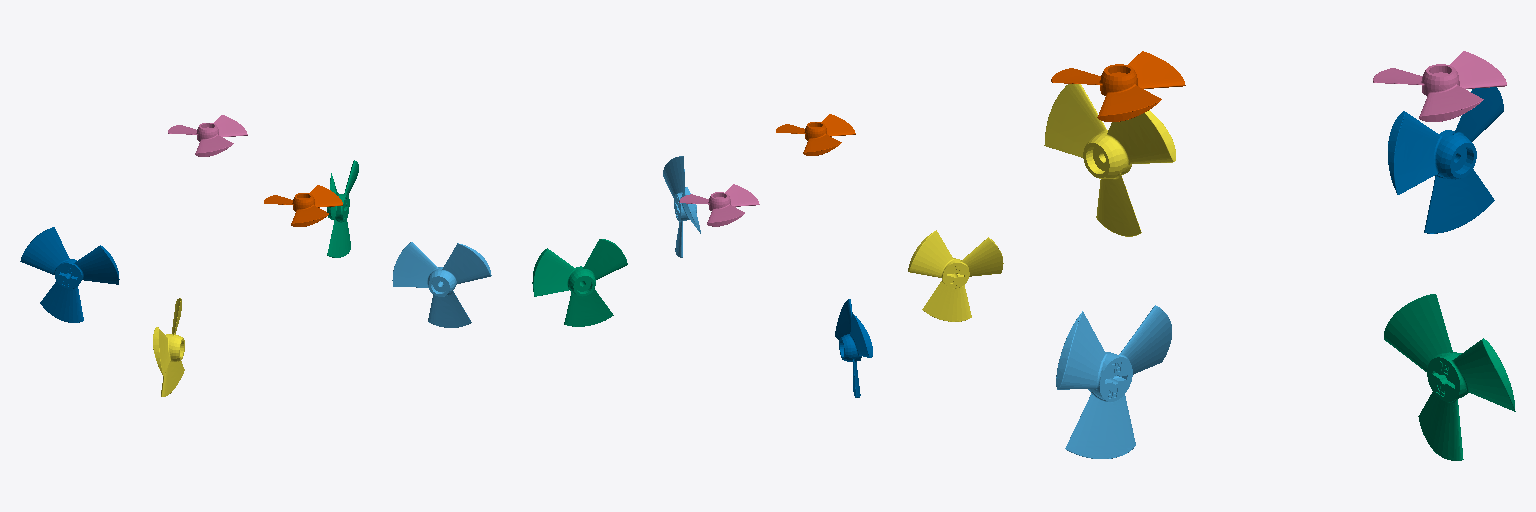
URDF robot description (mini_tortuga):
<?xml version="1.0" encoding="utf-8"?>

<robot name="mini_tortuga">
  <link name="base_link">
    <inertial>
      <mass value="19.1834"/>
      <!-- [kg] -->
      <origin xyz="0 0 0"/>
      <inertia
            ixx="0.29874124659" ixy="-0.03211874071" ixz="0.00179507011"
            iyy="0.50529405748" iyz="-0.00095289894"
            izz="0.62284393213" />
      </inertial>
    <visual>
      <origin rpy="0 0 0" xyz="0 0 0"/>
      <geometry>
        <mesh filename="mesh/obsrov.obj" scale="1 1 1"/>
      </geometry>
    </visual>
  </link>
  <joint name="rotor_1_joint" type="fixed">
    <origin rpy="0 0 -2.356194490192345" xyz="0.14 -0.09 0.059"/>
    <parent link="base_link"/>
    <child link="rotor_1"/>
  </joint>
  <link name="rotor_1">
    <inertial>
      <mass value="0.01"/>
      <inertia ixx="1.94999922e-06" ixy="0.0" ixz="0.0" iyy="0.00013660827869" iyz="0.0" izz="0.00013840827797"/>
    </inertial>
    <visual>
      <geometry>
        <mesh filename="mesh/red_propcw_minitortuga.obj" scale="1 1 1"/>
      </geometry>
    </visual>
  </link>
  <joint name="rotor_2_joint" type="fixed">
    <origin rpy="0 0 2.356194490192345" xyz="0.14 0.09 0.059"/>
    <parent link="base_link"/>
    <child link="rotor_2"/>
  </joint>
  <link name="rotor_2">
    <inertial>
      <mass value="0.01"/>
      <inertia ixx="1.94999922e-06" ixy="0.0" ixz="0.0" iyy="0.00013660827869" iyz="0.0" izz="0.00013840827797"/>
    </inertial>
    <visual>
      <geometry>
        <mesh filename="mesh/red_propcw_minitortuga.obj" scale="1 1 1"/>
      </geometry>
    </visual>
  </link>
  <joint name="rotor_3_joint" type="fixed">
    <origin rpy="0 0 -0.7853981633974483" xyz="-0.14 -0.09 0.059"/>
    <parent link="base_link"/>
    <child link="rotor_3"/>
  </joint>
  <link name="rotor_3">
    <inertial>
      <mass value="0.01"/>
      <inertia ixx="1.94999922e-06" ixy="0.0" ixz="0.0" iyy="0.00013660827869" iyz="0.0" izz="0.00013840827797"/>
    </inertial>
    <visual>
      <geometry>
        <mesh filename="mesh/red_propcw_minitortuga.obj" scale="1 1 1"/>
      </geometry>
    </visual>
  </link>
  <joint name="rotor_4_joint" type="fixed">
    <origin rpy="0 0 0.7853981633974483" xyz="-0.14 0.09 0.059"/>
    <parent link="base_link"/>
    <child link="rotor_4"/>
  </joint>
  <link name="rotor_4">
    <inertial>
      <mass value="0.01"/>
      <inertia ixx="1.94999922e-06" ixy="0.0" ixz="0.0" iyy="0.00013660827869" iyz="0.0" izz="0.00013840827797"/>
    </inertial>
    <visual>
      <geometry>
        <mesh filename="mesh/red_propcw_minitortuga.obj" scale="1 1 1"/>
      </geometry>
    </visual>
  </link>
  <joint name="rotor_5_joint" type="fixed">
    <origin rpy="0 -1.5707963267948966 0" xyz="0 -0.0855 0.165"/>
    <parent link="base_link"/>
    <child link="rotor_5"/>
  </joint>
  <link name="rotor_5">
    <inertial>
      <mass value="0.01"/>
      <inertia ixx="1.94999922e-06" ixy="0.0" ixz="0.0" iyy="0.00013660827869" iyz="0.0" izz="0.00013840827797"/>
    </inertial>
    <visual>
      <geometry>
        <mesh filename="mesh/silver_propcw_minitortuga.obj" scale="0.8 0.8 0.8"/>
      </geometry>
    </visual>
  </link>
  <joint name="rotor_6_joint" type="fixed">
    <origin rpy="0 -1.5707963267948966 0" xyz="0 0.0855 0.165"/>
    <parent link="base_link"/>
    <child link="rotor_6"/>
  </joint>
  <link name="rotor_6">
    <inertial>
      <mass value="0.01"/>
      <inertia ixx="1.94999922e-06" ixy="0.0" ixz="0.0" iyy="0.00013660827869" iyz="0.0" izz="0.00013840827797"/>
    </inertial>
    <visual>
      <geometry>
        <mesh filename="mesh/silver_propcw_minitortuga.obj" scale="0.8 0.8 0.8"/>
      </geometry>
    </visual>
  </link>
</robot>

--- What the picture shows (computed from the rendered views, not written in the file) ---
3 views of the same robot in one strip: view 1: azimuth 30°, elevation 25°; view 2: azimuth 150°, elevation 25°; view 3: azimuth 270°, elevation 25° (orthographic).
Robot: mini_tortuga — 7 links, 6 joints (6 fixed); root link base_link; default pose: every joint at zero.
Visible links, largest first — view 1: rotor_1, rotor_4, rotor_3, rotor_6, rotor_5, rotor_2; view 2: rotor_2, rotor_3, rotor_4, rotor_6, rotor_5, rotor_1; view 3: rotor_1, rotor_2, rotor_4, rotor_3, rotor_6, rotor_5.
Link boxes in pixels (x1=…): rotor_1: x1=392, y1=242, x2=491, y2=327; rotor_4: x1=20, y1=227, x2=119, y2=322; rotor_3: x1=153, y1=298, x2=184, y2=396; rotor_6: x1=168, y1=115, x2=247, y2=156; rotor_5: x1=264, y1=185, x2=342, y2=226; rotor_2: x1=327, y1=160, x2=358, y2=257; rotor_2: x1=532, y1=239, x2=627, y2=326; rotor_3: x1=908, y1=230, x2=1003, y2=321; rotor_4: x1=835, y1=299, x2=872, y2=397; rotor_6: x1=679, y1=184, x2=759, y2=226; rotor_5: x1=776, y1=114, x2=855, y2=155; rotor_1: x1=663, y1=156, x2=700, y2=257; rotor_1: x1=1056, y1=305, x2=1171, y2=458; rotor_2: x1=1384, y1=294, x2=1515, y2=460; rotor_4: x1=1388, y1=87, x2=1503, y2=233; rotor_3: x1=1044, y1=84, x2=1175, y2=236; rotor_6: x1=1373, y1=51, x2=1506, y2=121; rotor_5: x1=1051, y1=51, x2=1185, y2=121.
Bounding box of the posed robot: 0.3498 × 0.2504 × 0.1596 m (x, y, z).
Meshes: 3 distinct files referenced, 6 mesh visuals loaded (2 OBJ); not drawn: 1 (reference not matched to a file when rendering).